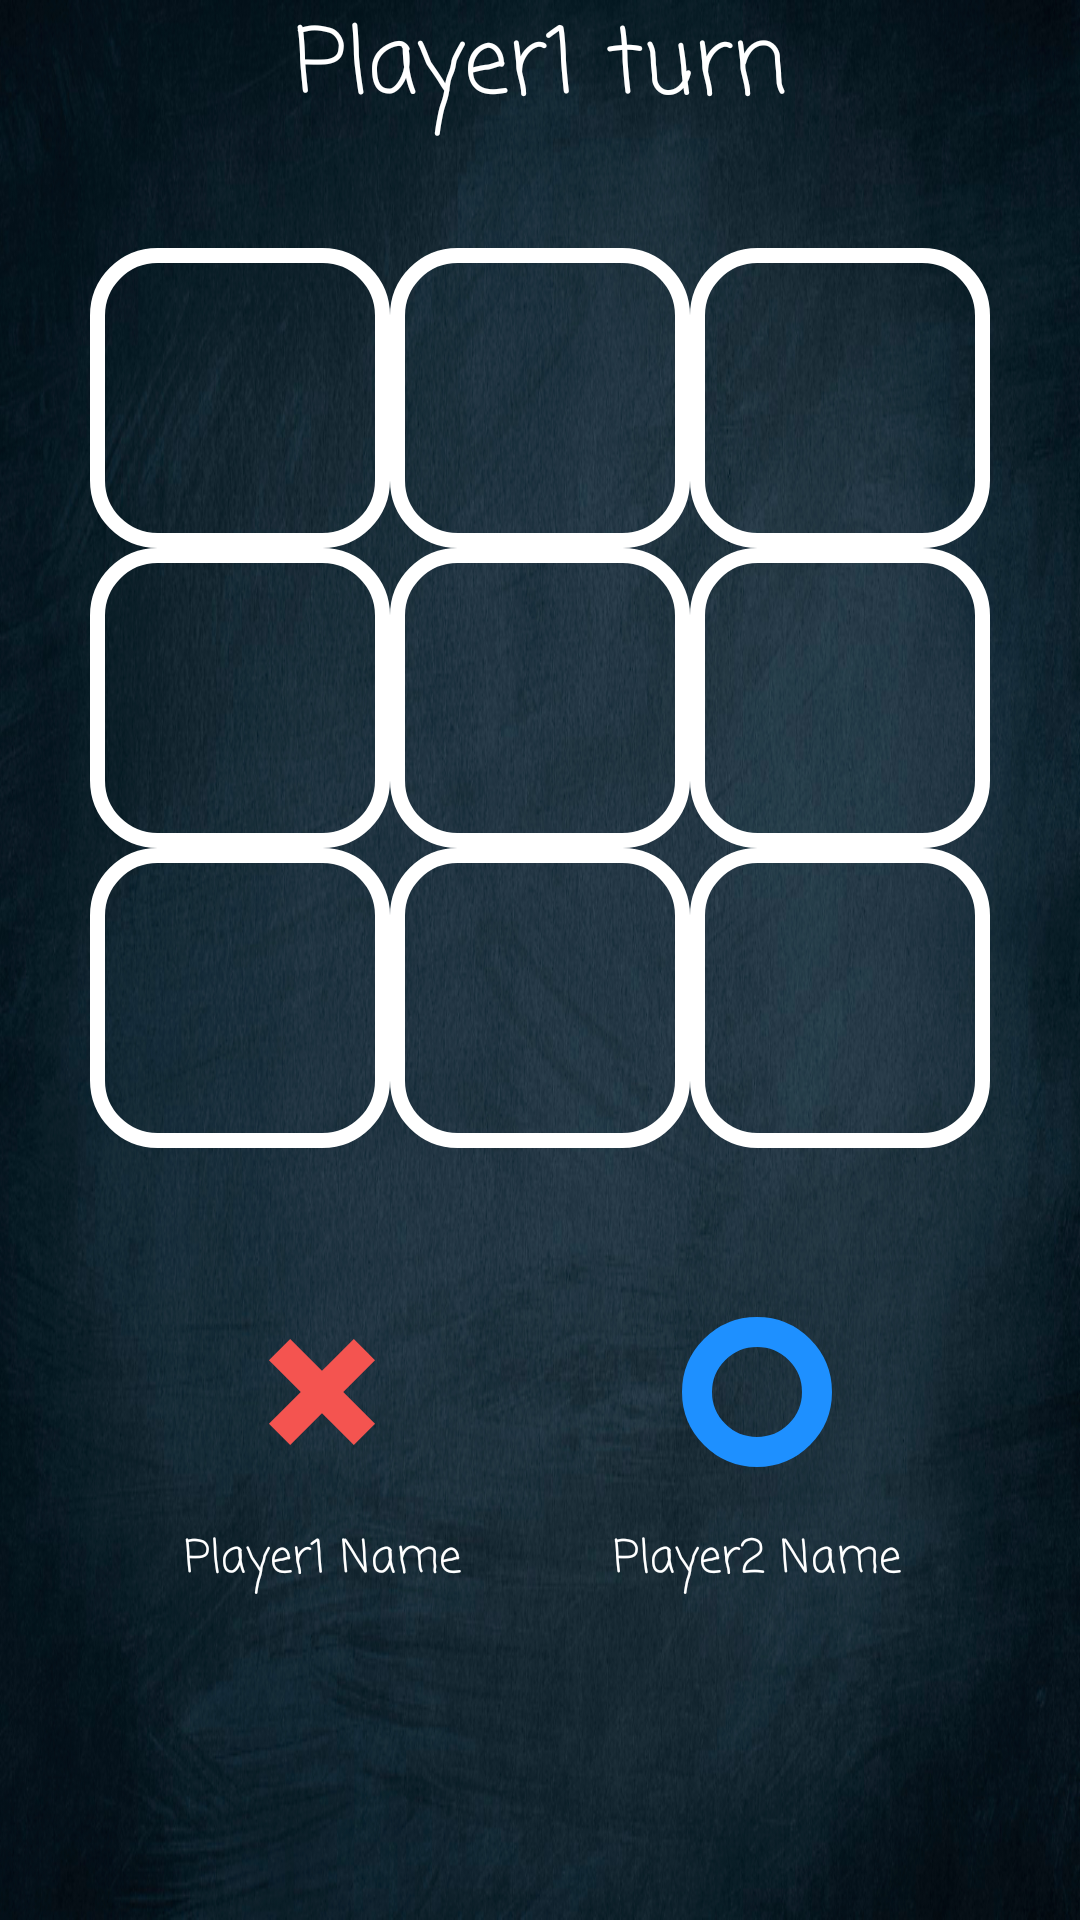

Icons on this 1080 x 1920 Android screen, each with the point to tap as (x=x, y=y):
circle centre hole: (x=757, y=1392)
cross: (x=322, y=1392)
